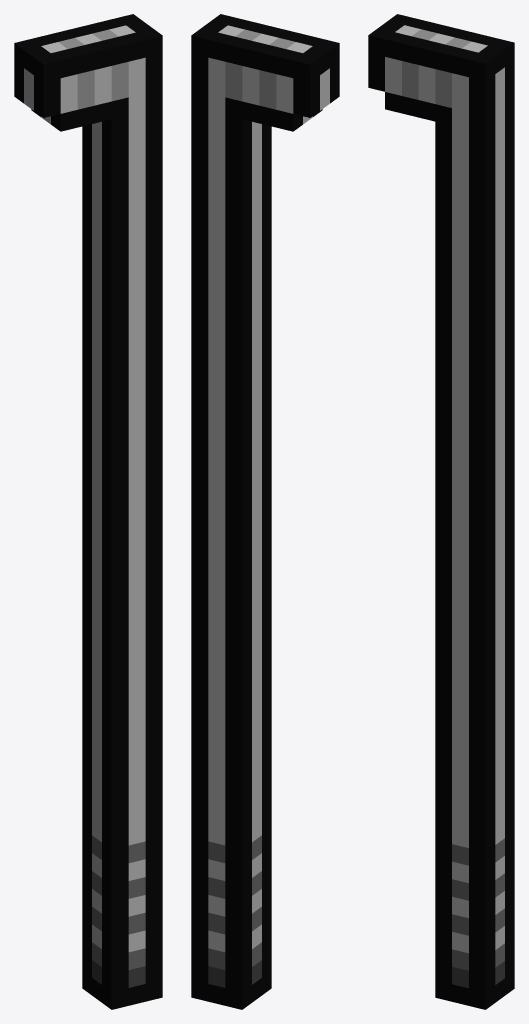
Rendered from GolfClub.obj.
3 views of the same model, side by side, from view 1: azimuth 30°, elevation 25°; view 2: azimuth 150°, elevation 25°; view 3: azimuth 330°, elevation 25° (orthographic).
Parts seen in each view (by area): view 1: GolfClub; view 2: GolfClub; view 3: GolfClub.
Part boxes in pixels (x1=…): GolfClub: x1=14, y1=14, x2=162, y2=1009; GolfClub: x1=191, y1=14, x2=339, y2=1009; GolfClub: x1=368, y1=14, x2=514, y2=1009.
Bounding box in the file's own units: 0.7 × 5.4 × 0.3.
Materials: 1 (1 with a texture image).
